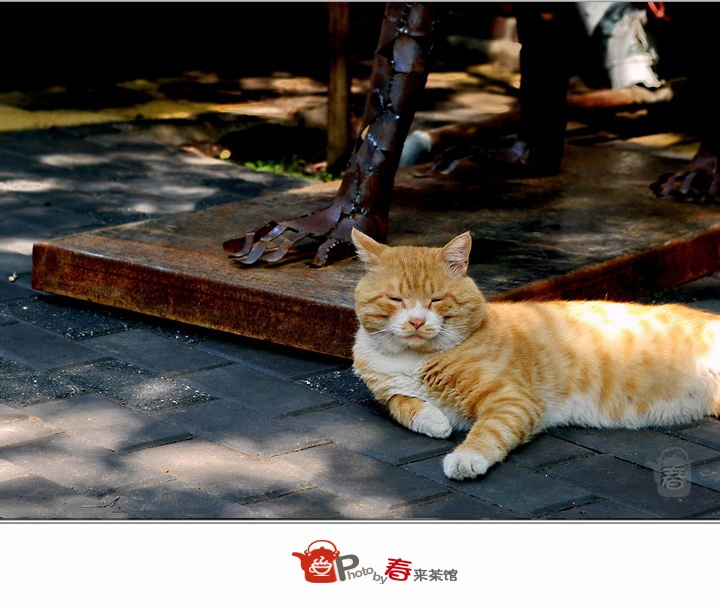cat: (350, 228, 720, 481)
